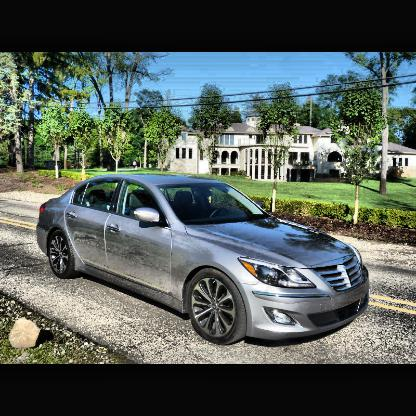Hyundai Genesis Sedan 2012: (37, 177, 369, 348)
